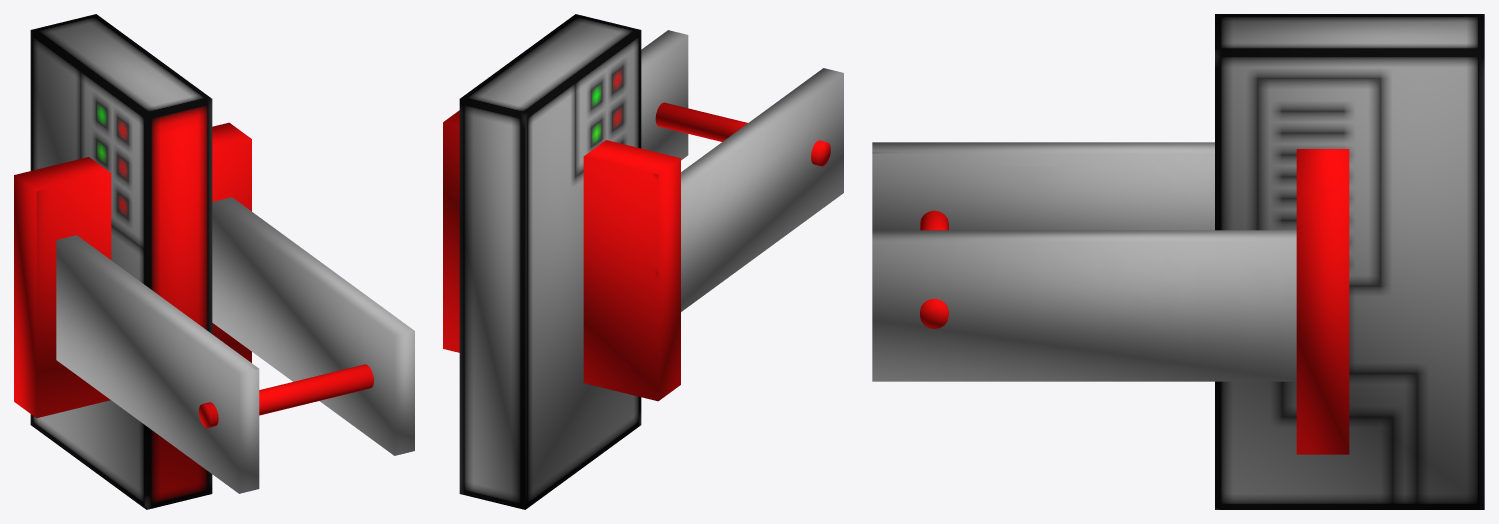
The model's file is extractor.fbx.
3 views of the same model, side by side, from view 1: azimuth 30°, elevation 25°; view 2: azimuth 150°, elevation 25°; view 3: azimuth 270°, elevation 25° (orthographic). The views are drawn at different scales.
Parts seen in each view (by area): view 1: Cube, Cube_001; view 2: Cube_001, Cube; view 3: Cube, Cube_001.
Part boxes in pixels (x1,y1,x2,y2): Cube: (14,122,414,493); Cube_001: (30,14,212,509); Cube_001: (459,14,641,509); Cube: (443,30,843,401); Cube: (872,142,1349,454); Cube_001: (1215,14,1484,509).
Bounding box in the file's own units: 1.99 × 3.48 × 4.22.
2 materials, 2 textured.
